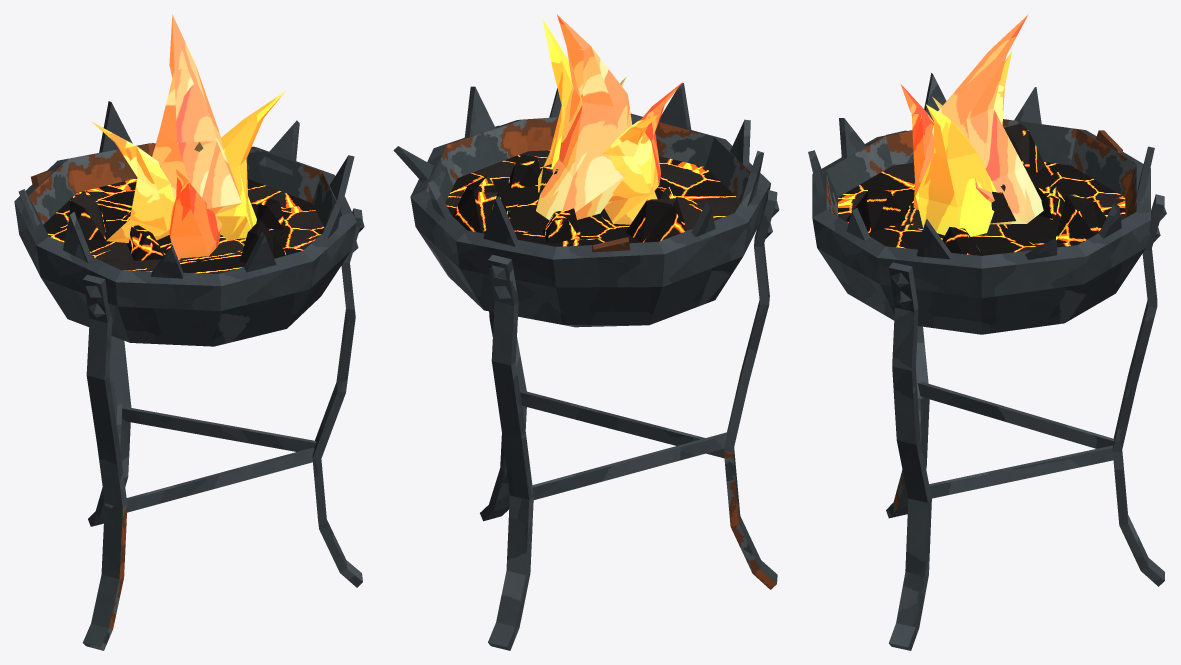
Rendered from SM_Brazier.fbx.
3 renders of one model, left to right at view 1: azimuth 30°, elevation 25°; view 2: azimuth 150°, elevation 25°; view 3: azimuth 270°, elevation 25°, orthographic. The views are drawn at different scales.
Parts seen in each view (by area): view 1: SM_Brazier, SM_Brazier_Flame; view 2: SM_Brazier, SM_Brazier_Flame; view 3: SM_Brazier, SM_Brazier_Flame.
Part boxes in pixels (x1,y1,x2,y2): SM_Brazier: (14,101,364,650); SM_Brazier_Flame: (92,14,285,258); SM_Brazier: (393,83,779,650); SM_Brazier_Flame: (536,14,682,224); SM_Brazier: (808,73,1166,650); SM_Brazier_Flame: (900,14,1043,236).
Bounding box in the file's own units: 0.7158 × 1.26 × 0.7177.
